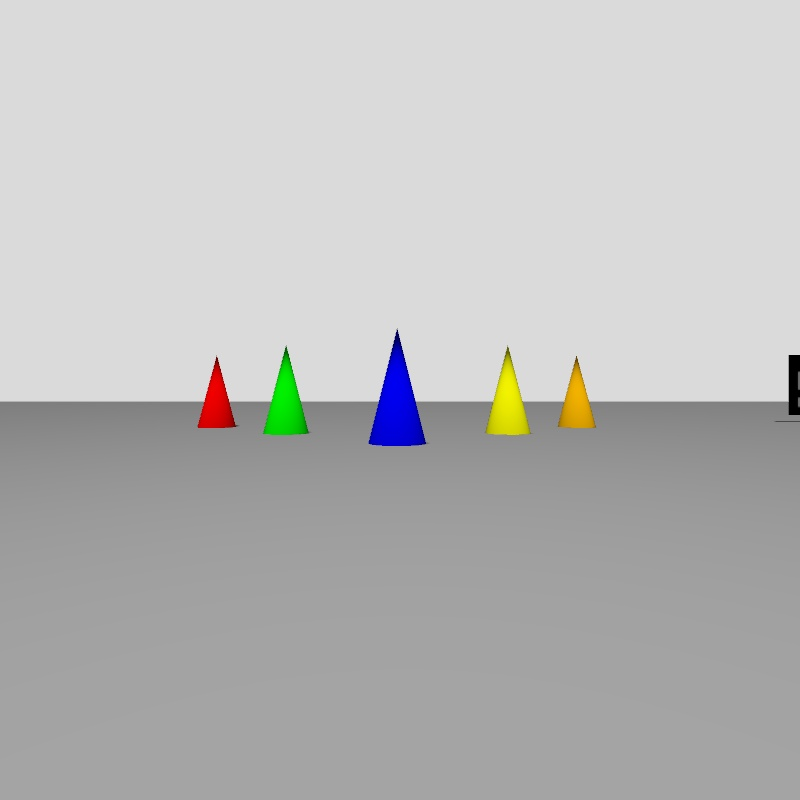Blue_cone: (369, 332, 425, 445)
Green_cone: (265, 348, 308, 434)
Orange_cone: (559, 357, 595, 427)
Red_cone: (198, 357, 235, 428)
Yellow_cone: (486, 347, 530, 434)
